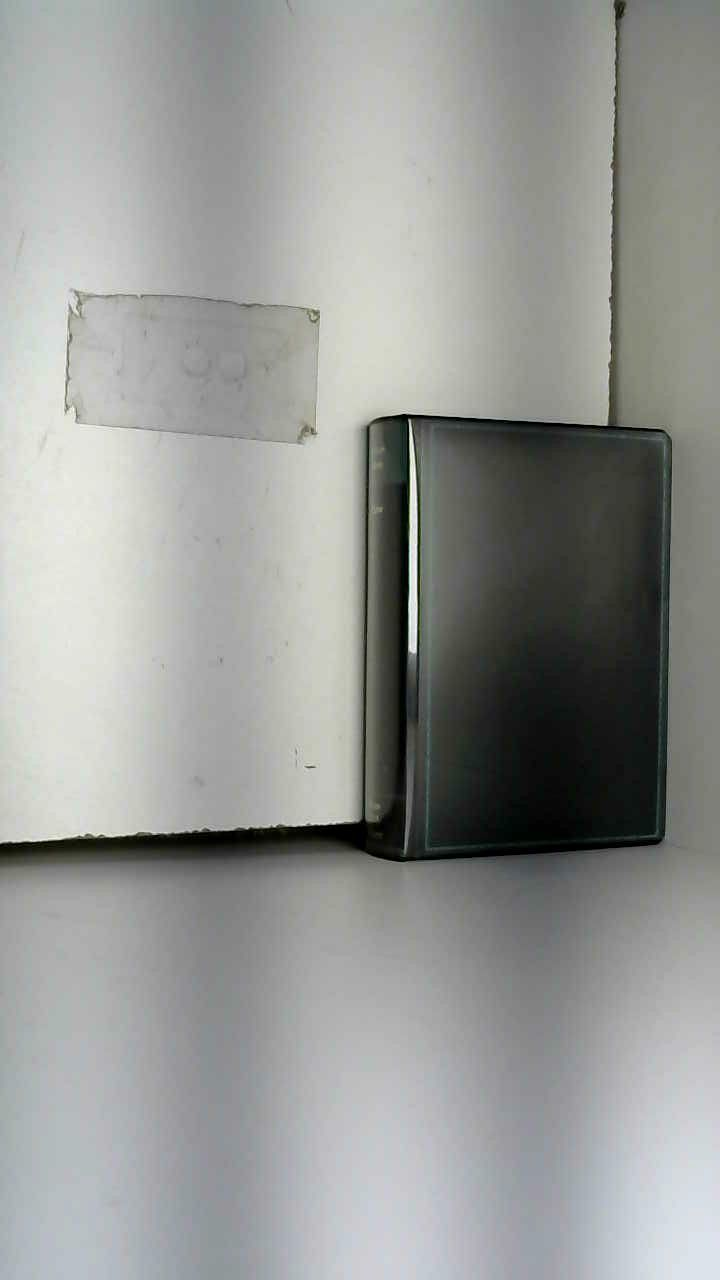book: (325, 384, 699, 895)
